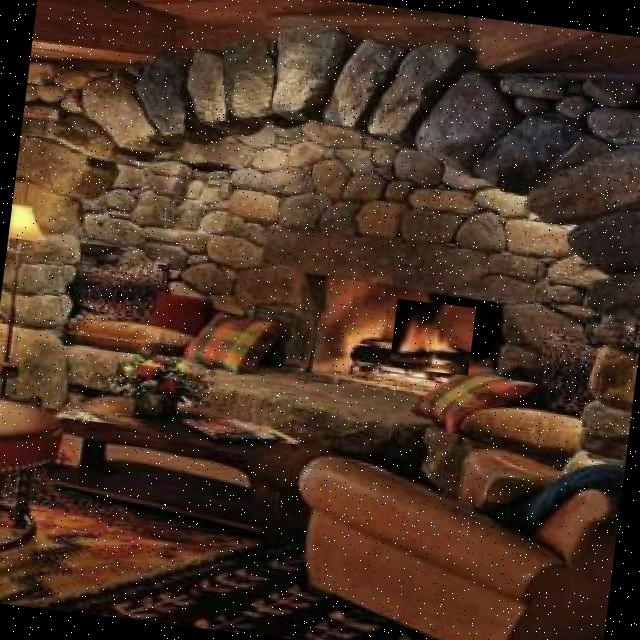fire: (389, 298, 476, 376)
